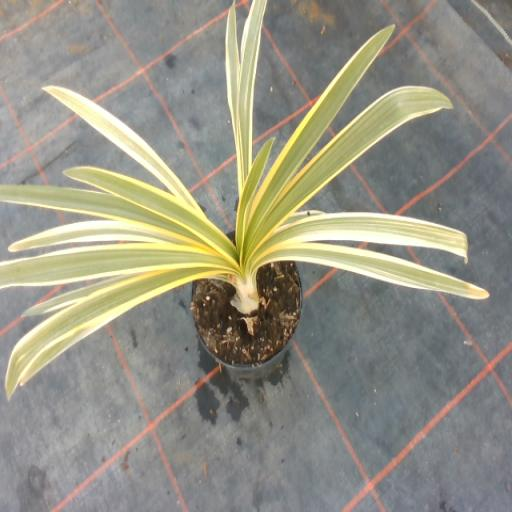Agapanthus-praecox: (250, 87, 451, 247), (250, 27, 392, 226), (6, 271, 212, 397), (43, 86, 205, 217), (66, 167, 237, 269), (263, 244, 488, 299), (0, 186, 202, 242), (0, 243, 226, 288), (257, 210, 467, 257), (238, 0, 266, 183), (9, 221, 178, 251), (22, 277, 123, 316), (237, 138, 273, 234), (226, 3, 239, 161)
